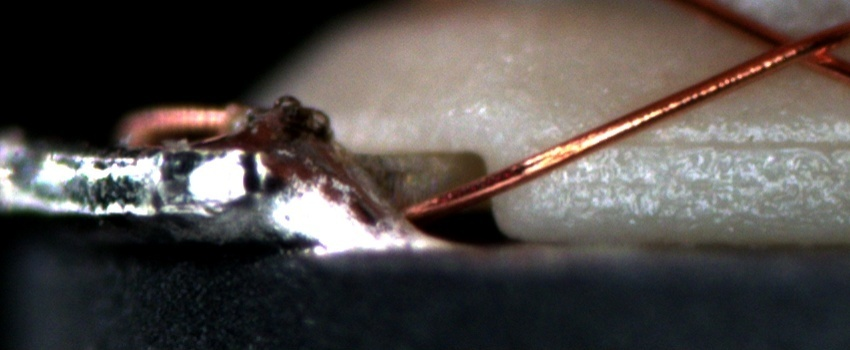CL: (744, 18, 842, 75)
DL: (614, 114, 850, 170)
TE: (117, 96, 257, 152)
